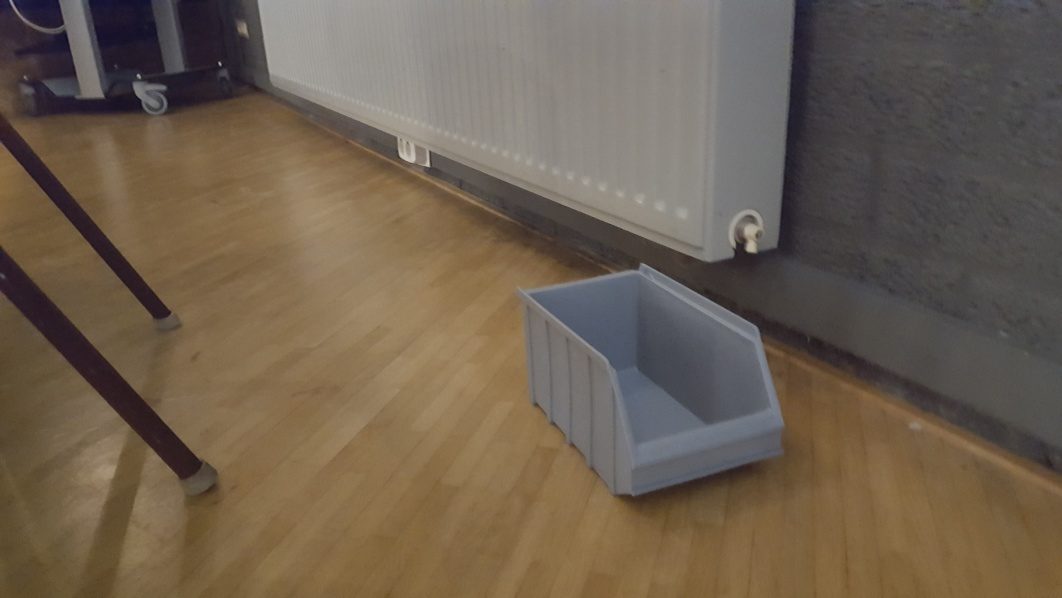tray: (516, 264, 784, 502)
